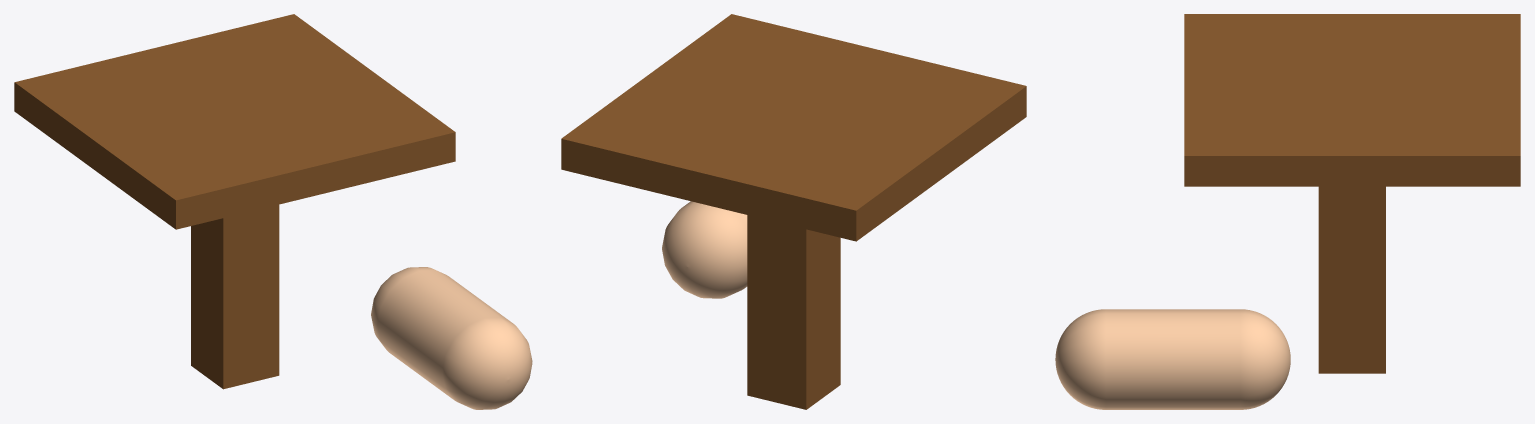
File: stubbed_toe.glb
The picture shows the model from 3 angles, left to right: view 1: azimuth 30°, elevation 25°; view 2: azimuth 150°, elevation 25°; view 3: azimuth 270°, elevation 25°; orthographic projection. The views are drawn at different scales.
Parts seen in each view (by area): view 1: model_stubbed_toe; view 2: model_stubbed_toe; view 3: model_stubbed_toe.
Part boxes in pixels (left/top/right/bottom): model_stubbed_toe: left=14, top=14, right=532, bottom=409; model_stubbed_toe: left=561, top=14, right=1026, bottom=409; model_stubbed_toe: left=1055, top=14, right=1520, bottom=409.
Size of the model in its own units: 3.35 by 2.7 by 4.15.
